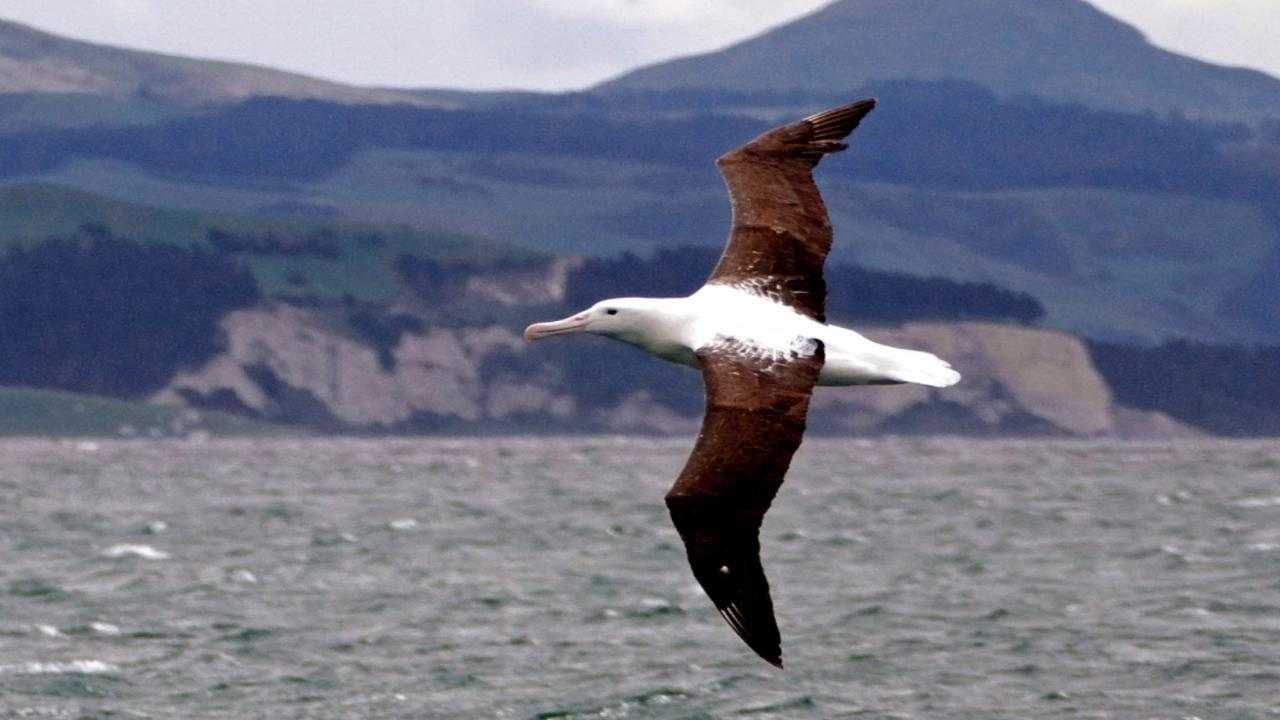Bird: (511, 86, 969, 678)
